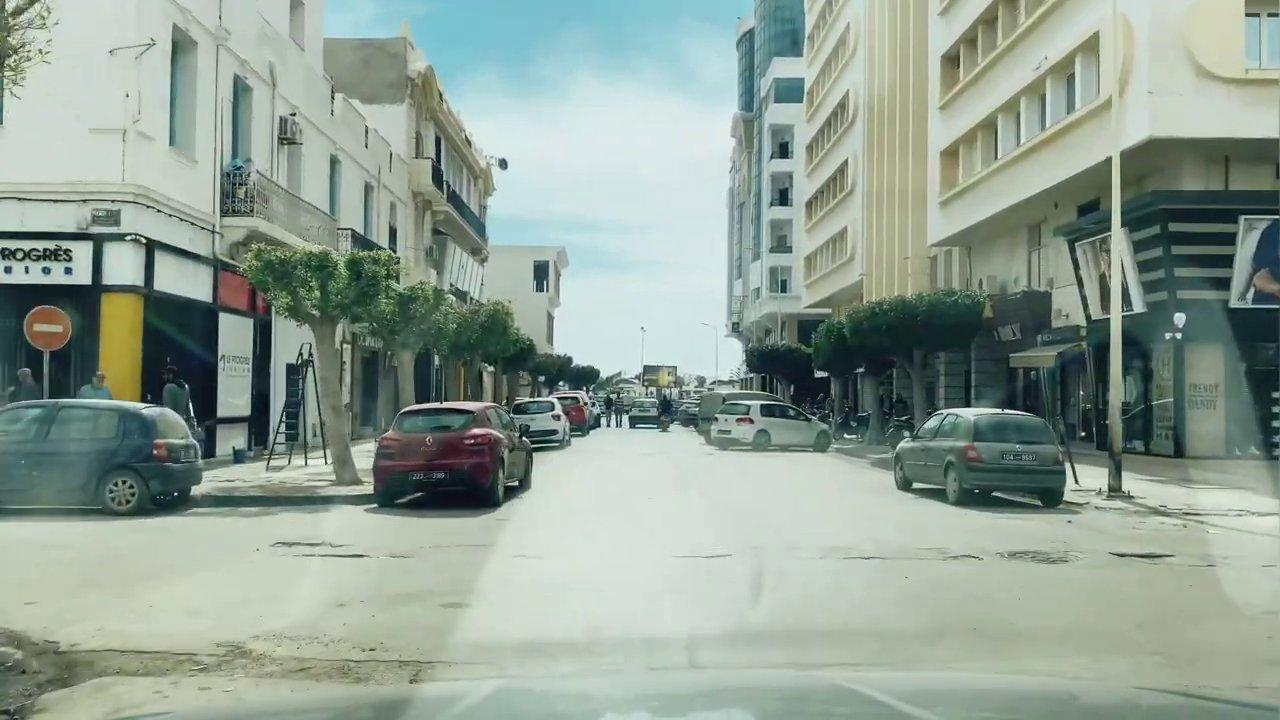no entry: (22, 304, 74, 356)
